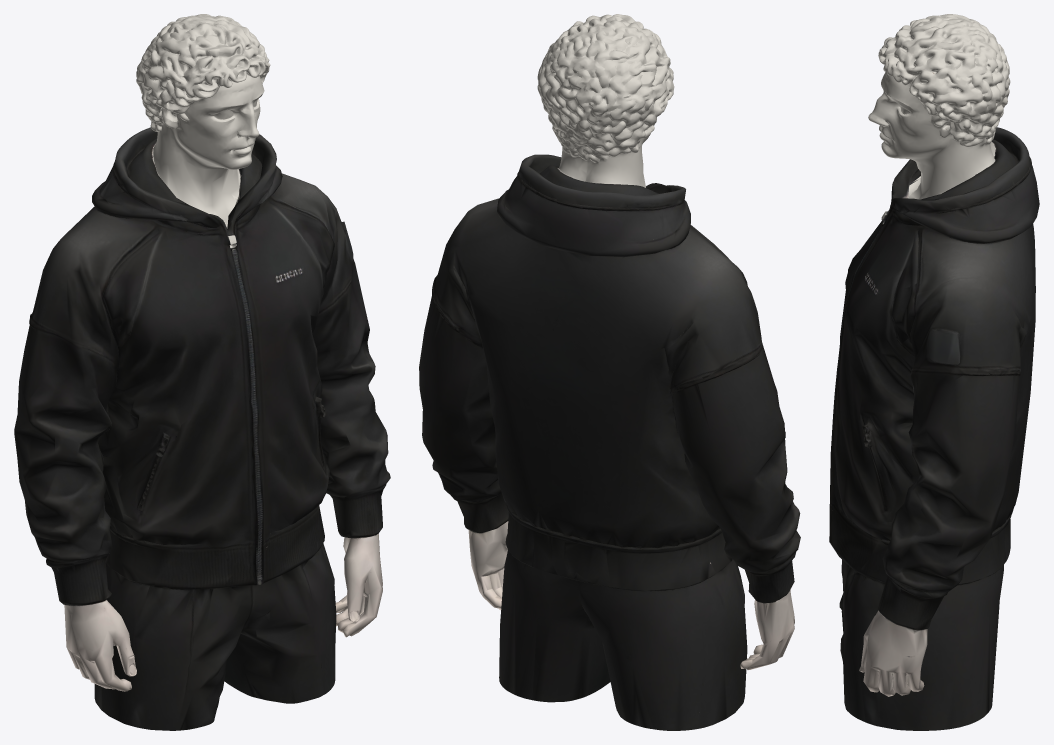
Rendered from hoodie.glb.
3 renders of one model, left to right at view 1: azimuth 30°, elevation 25°; view 2: azimuth 150°, elevation 25°; view 3: azimuth 270°, elevation 25°, orthographic. The views are drawn at different scales.
Visible parts, largest first — view 1: model; view 2: model; view 3: model.
Part boxes in pixels (bbox=[...]): model: bbox=[14, 14, 390, 730]; model: bbox=[419, 14, 800, 730]; model: bbox=[829, 14, 1039, 730].
Bounding box in the file's own units: 1.05 × 1.9 × 0.5489.
2 materials, 1 textured.
